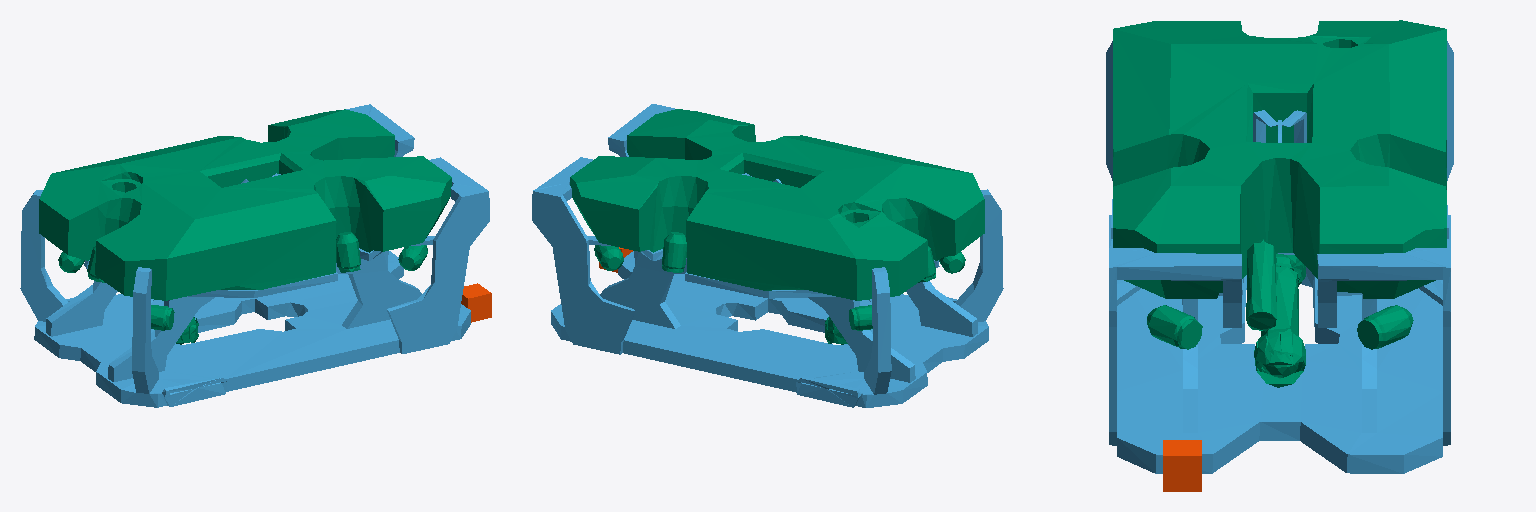
robot.urdf — bluevolta_bravo:
<?xml version="1.0" encoding="utf-8"?>
<robot name="bluevolta_bravo">
<material name="green2">
        <color rgba="0.235 0.702 0.443 1"/>
</material>

<material name="blue">
        <color rgba="0.263 0.733 0.984 1"/>
</material>

<material name="trans_black">
        <color rgba="0.8 0.8 0.8 1"/>
</material>

<material name="black2">
        <color rgba="0.8 0.8 0.8 1"/>
</material>

<material name="orange">
        <color rgba="1 0.369 0.047 1"/>
</material>

<material name="green">
        <color rgba="0 1 0 0.5"/>
</material>

<material name="bravo_black">
        <color rgba="0.3 0.3 0.3 1"/>
</material>

<material name="bravo_jaws_black">
        <color rgba="0.3 0.3 0.3 1"/>
</material>

<link name="world"/>   

<link name="mobile_base">
    <visual>
        <geometry>
            <mesh filename="package://uvm_description/meshes/bluevolta/bluevolta_base.obj" scale="1 1 1"/>
        </geometry>
    </visual>
</link>
            
        <joint name="link_rov1" type="fixed">
            <origin xyz="0 0 0" rpy="0 0 0"/>
            <parent link="mobile_base"/>
            <child link="mobile_base2"/>
        </joint>
            
<link name="mobile_base2">
    <visual>
        <geometry>
            <mesh filename="package://uvm_description/meshes/bluevolta/bluevolta.obj" scale="1 1 1"/>
        </geometry>
    </visual>
</link>

<link name="box_base_bravo">
    <visual>
        <geometry>
            <box size="0.1 0.1 0.1"/>
        </geometry>
        <material name="orange"/>
    </visual>
</link>

        <joint name="box_base_bravo_joint" type="fixed">
            <origin xyz="-0.25 0.835 0.17" rpy="0 0 0"/>
            <parent link="mobile_base"/>
            <child link="box_base_bravo"/>
        </joint>

        <joint name="BlueVoltaToRB7" type="fixed">
            <origin rpy="3.14 0.0 1.570796327" xyz="0 -0.05 -0.05"/>
            <parent link="box_base_bravo"/>
            <child link="bravo_base_link"/>
        </joint>

        <joint name="Yaw" type="revolute">
            <parent link="world"/>
            <child link="mobile_base"/>
            <origin rpy="0 3.141592654 -1.570796327" xyz="0 0 0"/>
            <axis xyz="0 0 1"/>
            <limit effort="10.0" lower="-1000.0" upper="1000" velocity="5"/>
        </joint>

<link name="bravo_base_link">
    <visual>
    <geometry>
        <mesh filename="package://uvm_description/meshes/RS2-1019_base.stl"/>
    </geometry>
    <material name="blue"/>
    </visual>
</link>

        <joint name="joint1" type="revolute">
            <parent link="bravo_base_link"/>
            <origin rpy="0 0 3.14159" xyz="0.0665 0 0.08"/>
            <axis xyz="0 0 -1"/>
            <child link="link1_1"/>
            <limit effort="0" lower="0.0" upper="6.3" velocity="0"/>
        </joint>

<link name="link1_1">
    <visual>
        <geometry>
        <mesh filename="package://uvm_description/meshes/RS2-1019_end.stl"/>
        </geometry>
        <material name="green2"/>
    </visual>
</link>

        <joint name="bravo_d_base_joint" type="fixed">
            <parent link="link1_1"/>
            <origin rpy="0 0 0" xyz="0 0 0"/>
            <child link="link1_2"/>
        </joint>

<link name="link1_2">
    <visual>
        <geometry>
        <mesh filename="package://uvm_description/meshes/RS2-1013_base.stl"/>
        </geometry>
        <material name="blue"/>
    </visual>
</link>

        <joint name="joint2" type="revolute">
            <parent link="link1_2"/>
            <origin rpy="0 0 0" xyz="0.046 0 0.0642"/>
            <axis xyz="0 -1 0"/>
            <child link="link2_1"/>
            <limit effort="0" lower="0.0" upper="3.2" velocity="0"/>
        </joint>

<link name="link2_1">
    <visual>
        <geometry>
        <mesh filename="package://uvm_description/meshes/RS2-1013_end.stl"/>
        </geometry>
        <material name="green2"/>
    </visual>
</link>

        <joint name="fixed0" type="fixed">
            <parent link="link2_1"/>
            <origin rpy="3.14159 0 3.14159" xyz="0.046 0 -0.05055"/>
            <child link="bravo_1013_end_link"/>
        </joint>

<link name="bravo_1013_end_link"/>

        <joint name="fixed1" type="fixed">
            <parent link="bravo_1013_end_link"/>
            <origin rpy="0 0 0" xyz="0 0 0.182"/>
            <child link="link2_3"/>
        </joint>

<link name="link2_2">
    <visual>
    <geometry>
        <mesh filename="package://uvm_description/meshes/RS2-1030.stl"/>
    </geometry>
    <material name="blue"/>
    </visual>
</link>

        <joint name="fixed4" type="fixed">
            <parent link="bravo_1013_end_link"/>
            <child link="link2_2"/>
            <origin rpy="0 0 0" xyz="0 0 0"/>
        </joint>

<link name="link2_3">
    <visual>
        <geometry>
        <mesh filename="package://uvm_description/meshes/RS2-1023_0_base.stl"/>
        </geometry>
        <material name="blue"/>
    </visual>
</link>

        <joint name="joint3" type="revolute">
            <parent link="link2_3"/>
            <origin rpy="0 0 0" xyz="0.042 0 0.0578"/>
            <axis xyz="0 -1 0"/>
            <child link="link3"/>
            <limit effort="0" lower="0.0" upper="3.2" velocity="0"/>
        </joint>

<link name="link3">
    <visual>
        <geometry>
        <mesh filename="package://uvm_description/meshes/RS2-1023_0_end.stl"/>
        </geometry>
        <material name="green2"/>
    </visual>
</link>

        <joint name="fixed2" type="fixed">
            <parent link="link3"/>
            <origin rpy="3.14159 0 0" xyz="0.0408 0 -0.09385"/>
            <child link="bravo_1023_0_end_link"/>
        </joint>

<link name="bravo_1023_0_end_link"/>

    <joint name="fixed3" type="fixed">
        <parent link="bravo_1023_0_end_link"/>
        <origin rpy="0 0 0" xyz="0 0 0"/>
        <child link="link4_0"/>
    </joint>

<link name="link4_0"/>

        <joint name="joint4" type="revolute">
            <parent link="link4_0"/>
            <origin rpy="0 0 0" xyz="0 0 0.0005"/>
            <axis xyz="0 0 -1"/>
            <child link="link4_1"/>
            <limit effort="0" lower="-1000" upper="1000" velocity="0"/>
        </joint>

<link name="link4_1">
    <visual>
        <geometry>
        <mesh filename="package://uvm_description/meshes/RS2-1023_1_end.stl"/>
        </geometry>
        <material name="blue"/>
    </visual>
</link>

        <joint name="bravo_1023_1_end_joint" type="fixed">
            <parent link="link4_1"/>
            <origin rpy="0 0 0" xyz="0 0 0.0056"/>
            <child link="bravo_1023_1_end_link"/>
        </joint>

<link name="bravo_1023_1_end_link"/>

        <joint name="bravo_a_base_joint" type="fixed">
            <parent link="bravo_1023_1_end_link"/>
            <origin rpy="0 0 0" xyz="0 0 0"/>
            <child link="link4_2"/>
        </joint>

<link name="link4_2">
    <visual>
        <geometry>
        <mesh filename="package://uvm_description/meshes/RS2-1028.stl"/>
        </geometry>
        <material name="blue"/>
    </visual>
</link>

        <joint name="fixed_ee" type="fixed">
            <parent link="link4_2"/>
            <origin rpy="0.0 0 0" xyz="0 0 0.120"/>
            <child link="end_effector"/>
        </joint>

<link name="end_effector"/>

        <joint name="fixed_contact_point" type="fixed">
            <parent link="end_effector"/>
            <origin rpy="0 0 0" xyz="0 0 0.05"/>
            <child link="contact_point"/>
        </joint>

<link name="contact_point"/>

</robot>
           

--- Facts derived from the render (not from the file) ---
3 views of the same robot in one strip: view 1: azimuth 30°, elevation 25°; view 2: azimuth 150°, elevation 25°; view 3: azimuth 270°, elevation 25° (orthographic).
Model bluevolta_bravo with 19 links and 18 joints (5 revolute, 13 fixed), rooted at world, posed all joints at 0.
Visible links, largest first — view 1: mobile_base2, mobile_base, box_base_bravo; view 2: mobile_base2, mobile_base; view 3: mobile_base2, mobile_base, box_base_bravo.
Boxes of the visible links, x1,y1,x2,y2 form: mobile_base2: (39, 109, 451, 344); mobile_base: (20, 104, 489, 407); box_base_bravo: (461, 283, 491, 322); mobile_base2: (570, 109, 984, 344); mobile_base: (532, 104, 1003, 407); mobile_base2: (1113, 20, 1446, 387); mobile_base: (1106, 41, 1453, 473); box_base_bravo: (1163, 440, 1201, 491).
Bounding box of the posed robot: 1.6 × 0.8943 × 0.6841 m (x, y, z).
2 mesh visuals loaded from 11 distinct referenced files (2 OBJ); not drawn: 9 (reference not matched to a file when rendering).